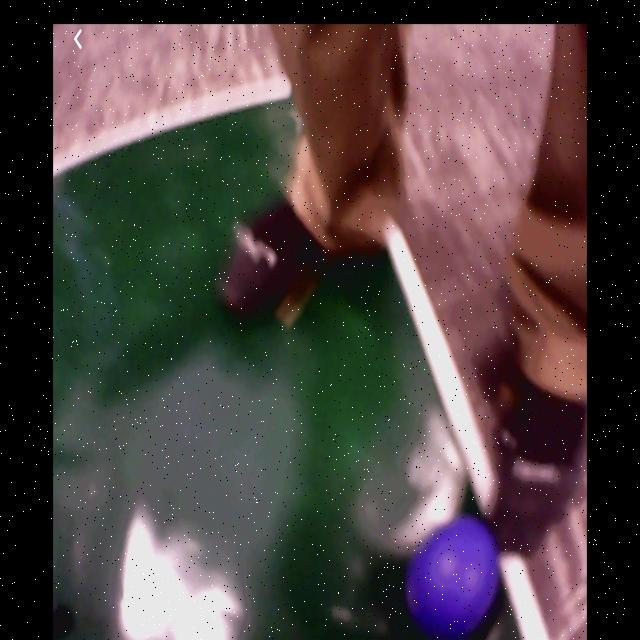ball: (406, 513, 498, 632)
